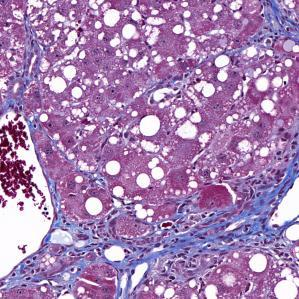fibrosis: (158, 193, 289, 266), (56, 204, 160, 279)
